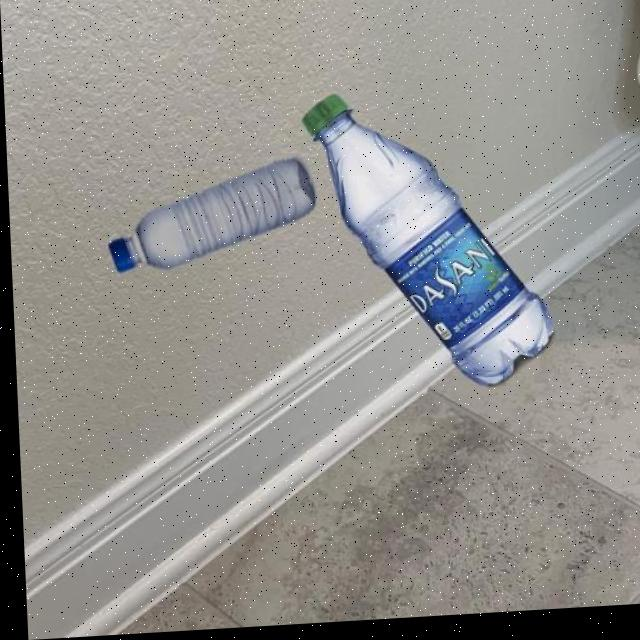bottle: (297, 86, 553, 400), (101, 158, 316, 277)
